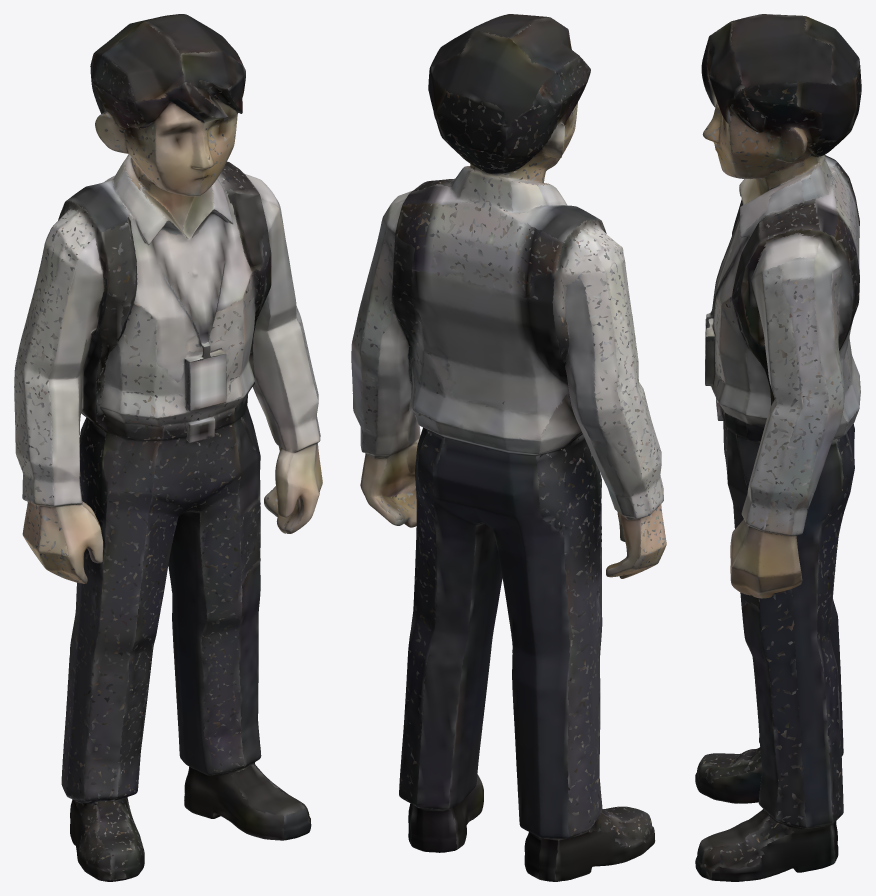
Rendered from pangyo_man.glb.
3 views of the same model, side by side, from view 1: azimuth 30°, elevation 25°; view 2: azimuth 150°, elevation 25°; view 3: azimuth 270°, elevation 25° (orthographic).
Parts seen in each view (by area): view 1: input; view 2: input; view 3: input.
Boxes of the visible parts, x1=… form: input: x1=14, y1=14, x2=322, y2=881; input: x1=351, y1=14, x2=666, y2=881; input: x1=695, y1=14, x2=861, y2=881.
Bounding box in the file's own units: 0.3737 × 1 × 0.1863.
1 material, 1 textured.
